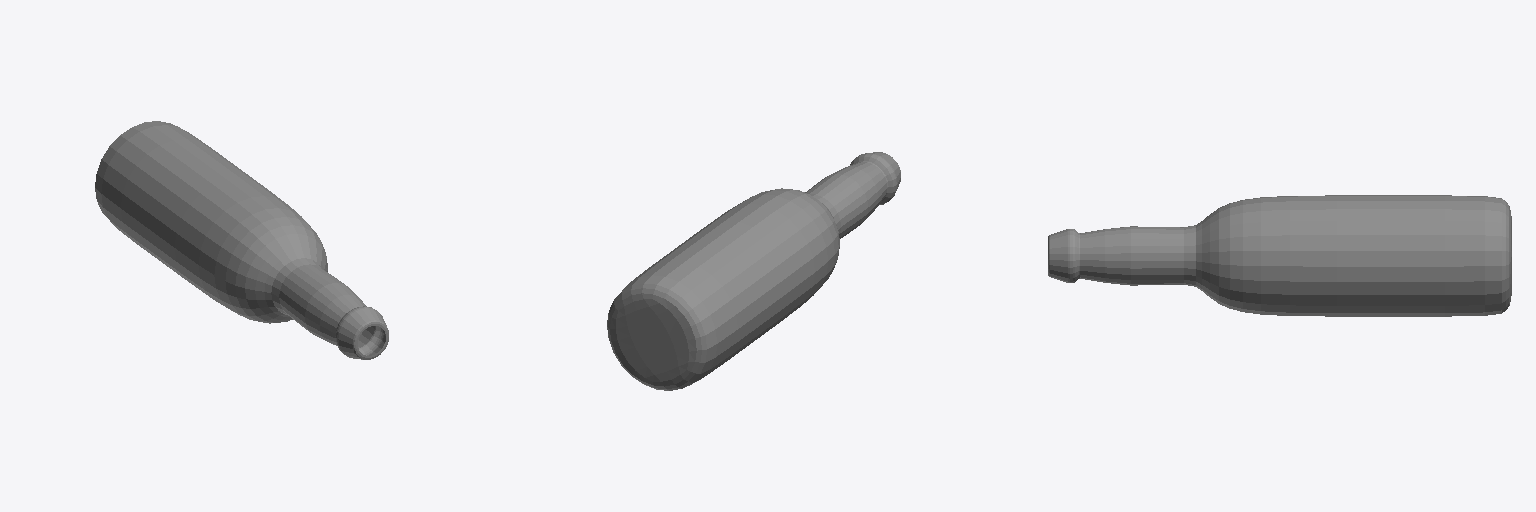
File: bottle.obj
3 views of the same model, side by side, from view 1: azimuth 30°, elevation 25°; view 2: azimuth 150°, elevation 25°; view 3: azimuth 270°, elevation 25° (orthographic).
Parts seen in each view (by area): view 1: Botella001; view 2: Botella001; view 3: Botella001.
Part boxes in pixels (x1,y1,x2,y2): Botella001: (95, 121, 388, 359); Botella001: (607, 152, 900, 390); Botella001: (1048, 195, 1511, 316).
Bounding box in the file's own units: 10.56 × 10.56 × 40.25.